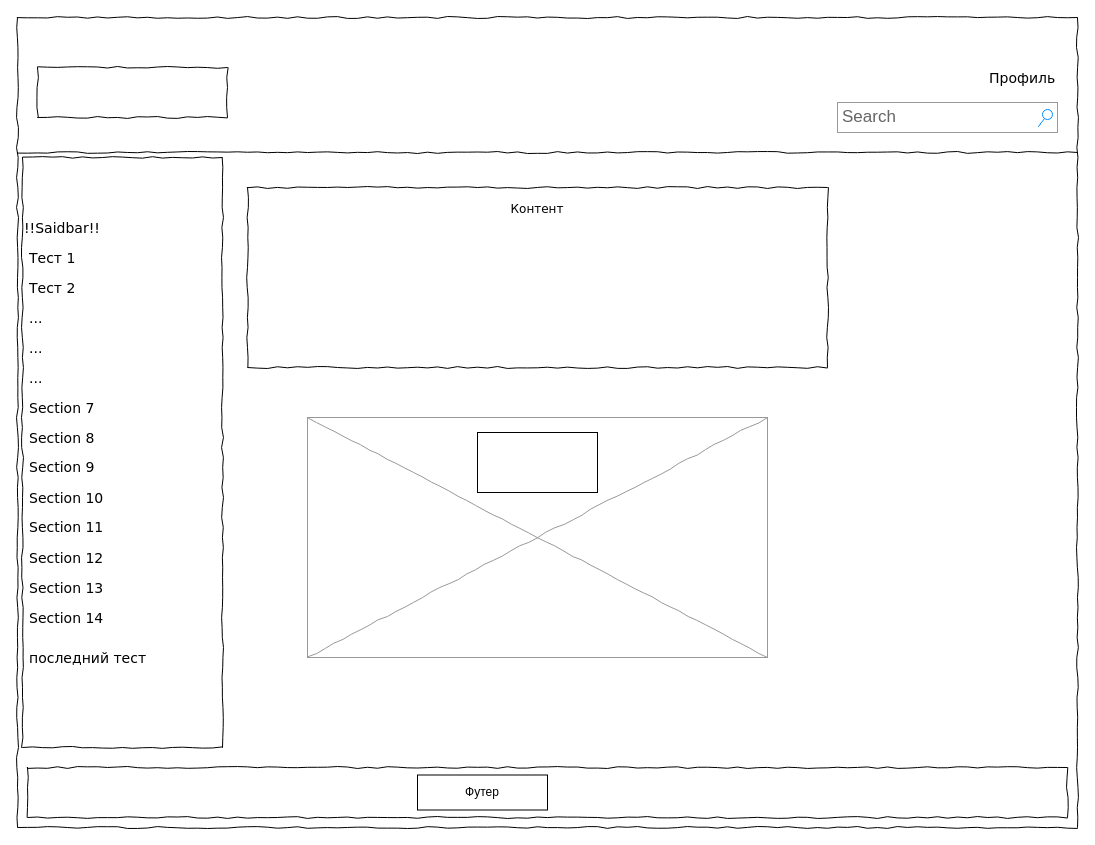
Image size: 1095x845. Some labels were removed from this diagram. Here are the shapes that lost their labels. From the top down, the centre of each, then its label:
the point at 132,92: LOGO
the point at 537,462: Твое колесо компетенций или иная фотография
